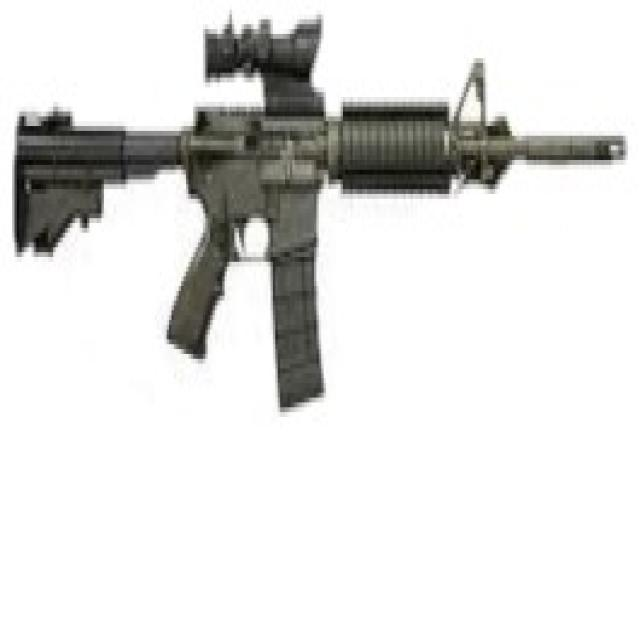rifle: (12, 17, 634, 428)
